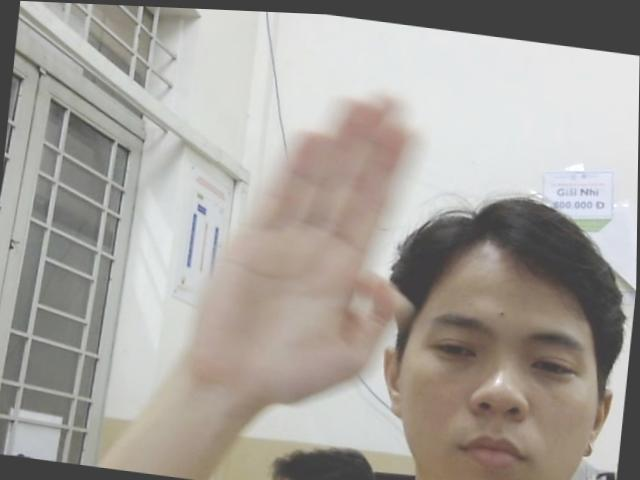B: (190, 61, 436, 410)
